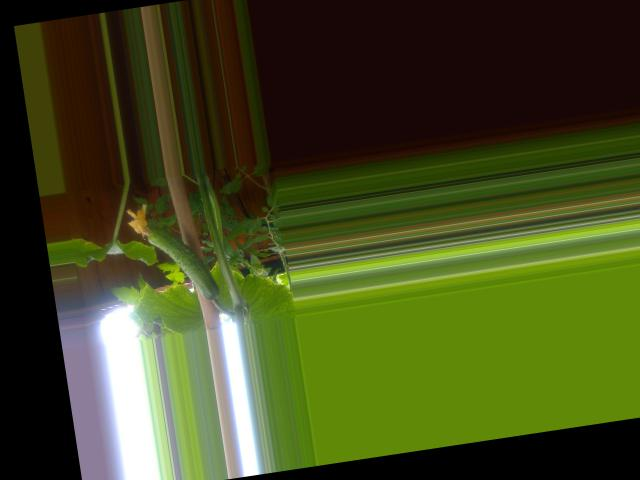cucumber: (124, 194, 219, 310)
